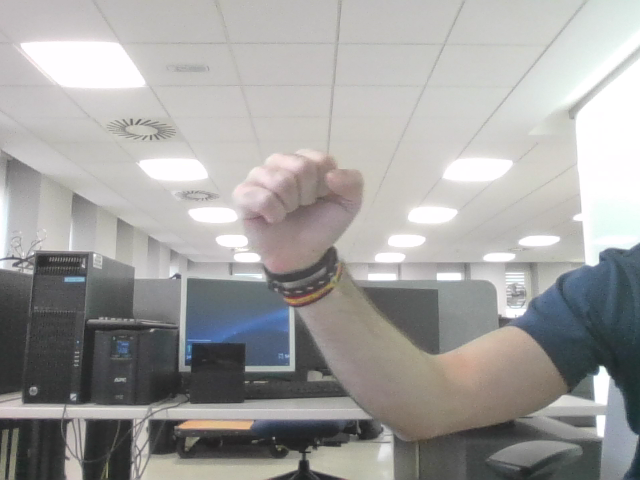Puño: (245, 159, 350, 233)
